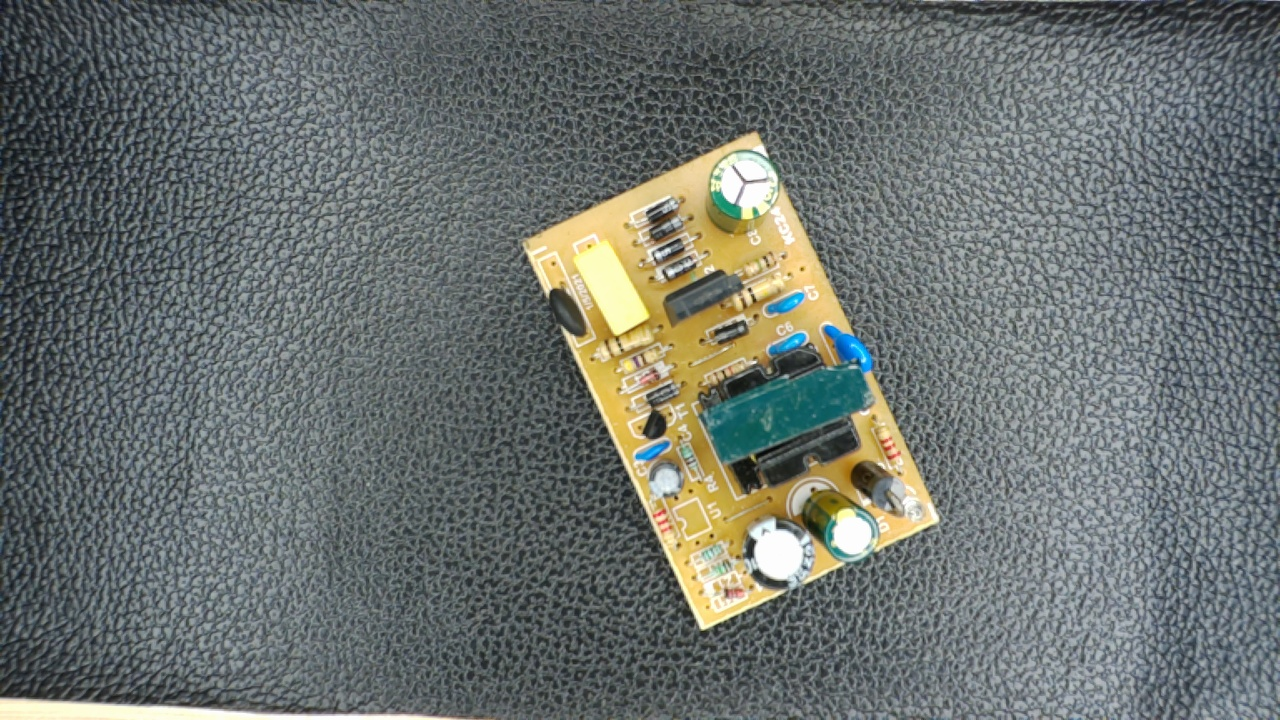fuse: (546, 279, 593, 347)
hv_capacitor: (707, 146, 782, 236)
mov: (816, 318, 875, 381)
